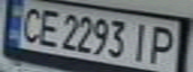2: (57, 11, 81, 52), (75, 12, 96, 55)
3: (106, 17, 130, 60)
9: (90, 15, 112, 57)
C: (15, 3, 45, 45)
E: (33, 6, 63, 48)
I: (127, 19, 154, 63)
P: (145, 21, 181, 66)
